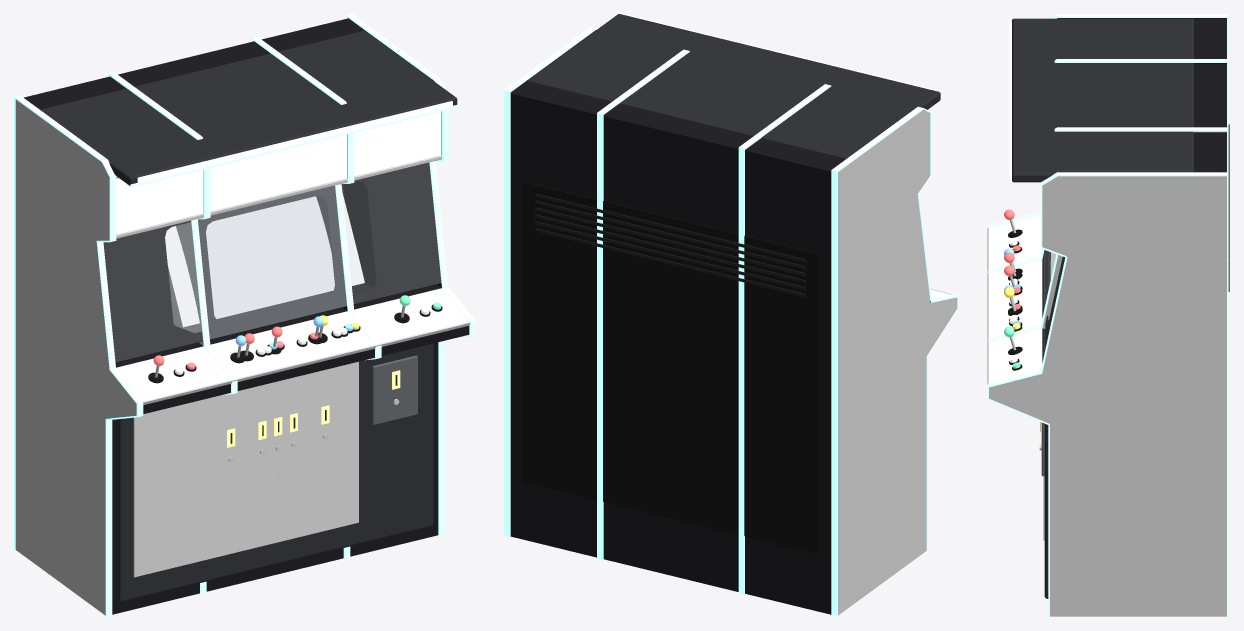
The model's file is cabinati.glb.
The picture shows the model from 3 angles, left to right: view 1: azimuth 30°, elevation 25°; view 2: azimuth 150°, elevation 25°; view 3: azimuth 270°, elevation 25°; orthographic projection. The views are drawn at different scales.
Parts seen in each view (by area): view 1: corpo_muretto, fianco_sx_4, pannello_muretto, vetro_schermo_4, cornice_schermo_4, vetro_schermo_1, corpo_4, insegna_4, pannello_4, schermo_4, neon_4, insegna_1 (+11 smaller); view 2: corpo_4, fianco_sx_4, corpo_1, corpo_muretto, neon_4, neon_1; view 3: fianco_dx_4, corpo_muretto, pannello_4, neon_4, corpo_4, neon_1, corpo_1, vetro_schermo_4, pannello_1, ghiere_4, fianco_dx_1, cornice_schermo_4.
Part boxes in pixels (x1,y1,x2,y2): corpo_muretto: (40,30,457,601); fianco_sx_4: (15,99,136,615); pannello_muretto: (133,361,358,577); vetro_schermo_4: (104,163,440,361); cornice_schermo_4: (103,162,440,362); vetro_schermo_1: (198,186,346,338); corpo_4: (24,18,469,614); insegna_4: (116,111,441,234); pannello_4: (116,288,468,401); schermo_4: (165,194,364,327); neon_4: (14,14,475,616); insegna_1: (210,134,347,211); corpo_4: (510,80,845,614); fianco_sx_4: (838,110,957,615); corpo_1: (603,104,751,591); corpo_muretto: (528,14,940,158); neon_4: (504,27,958,616); neon_1: (597,49,831,594); fianco_dx_4: (989,176,1226,616); corpo_muretto: (1012,18,1193,598); pannello_4: (989,215,1042,383); neon_4: (987,14,1228,616); corpo_4: (1042,19,1229,362); neon_1: (987,59,1228,341); corpo_1: (1194,64,1229,182); vetro_schermo_4: (1044,251,1064,352); pannello_1: (999,259,1041,325); ghiere_4: (987,228,1022,384); fianco_dx_1: (1042,131,1226,328); cornice_schermo_4: (1045,251,1065,348).
Size of the model in its own units: 1.51 by 1.93 by 0.9569.
